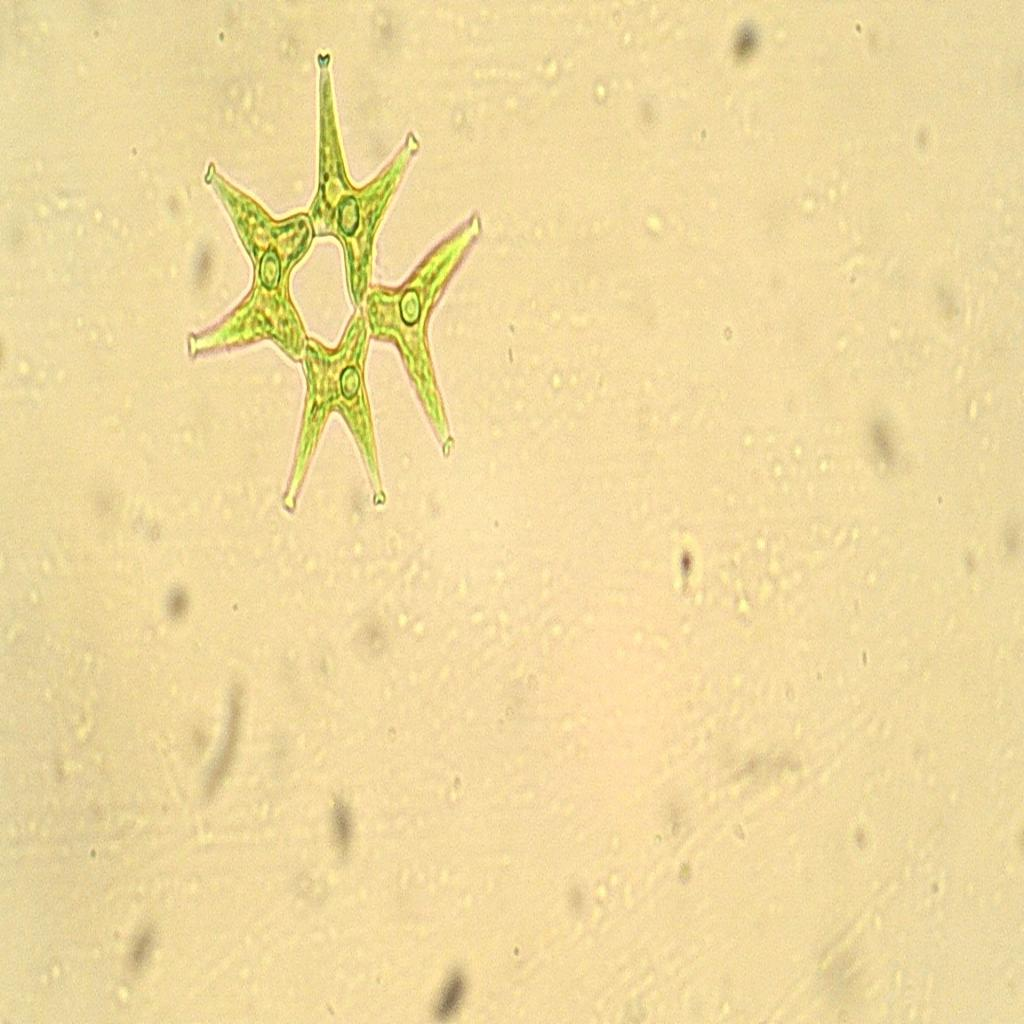Pediastrum_CT: (168, 50, 500, 516)
